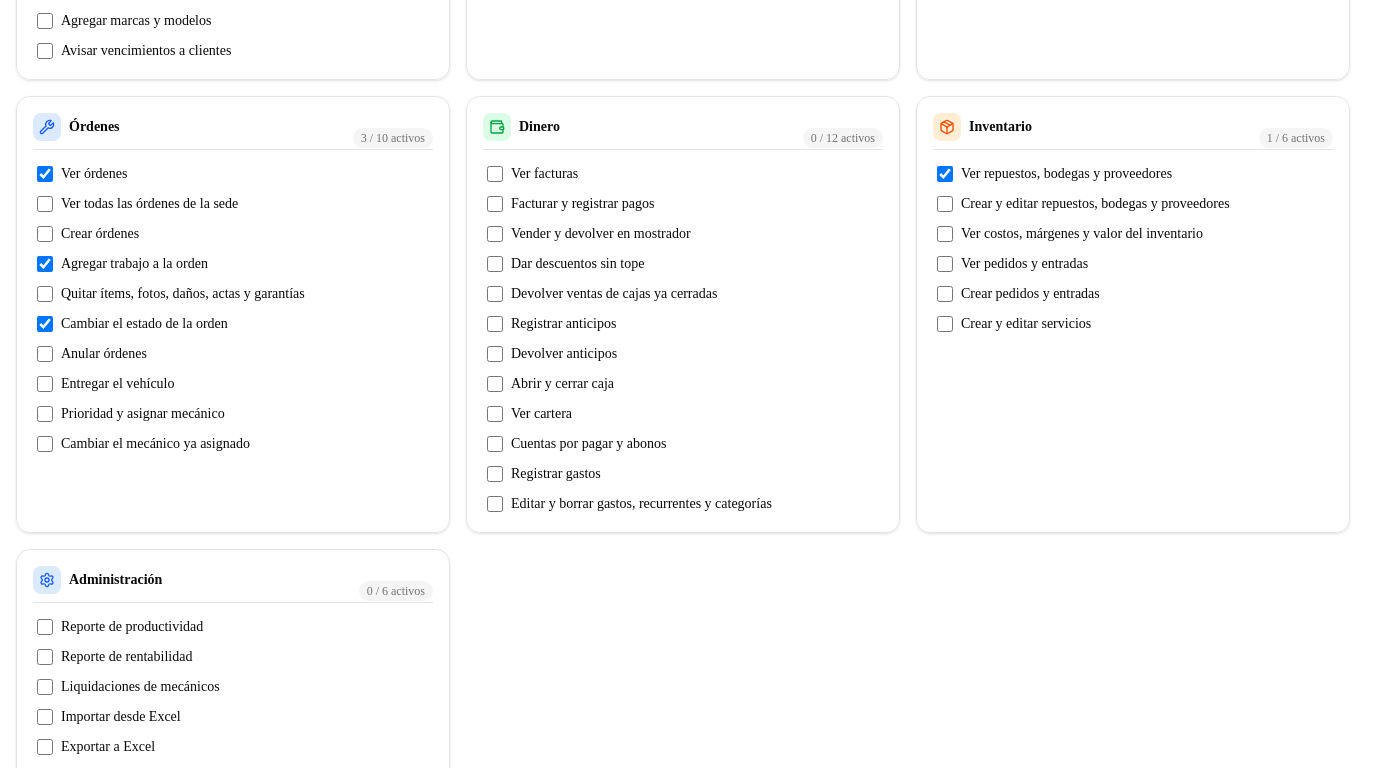
Test: FichaUsuario › Descartar vuelve a lo guardado
(page scrolled)
Click the checkbox labelled "Abrir y cerrar caja" at coordinates (495, 384), box [487, 376, 503, 392]
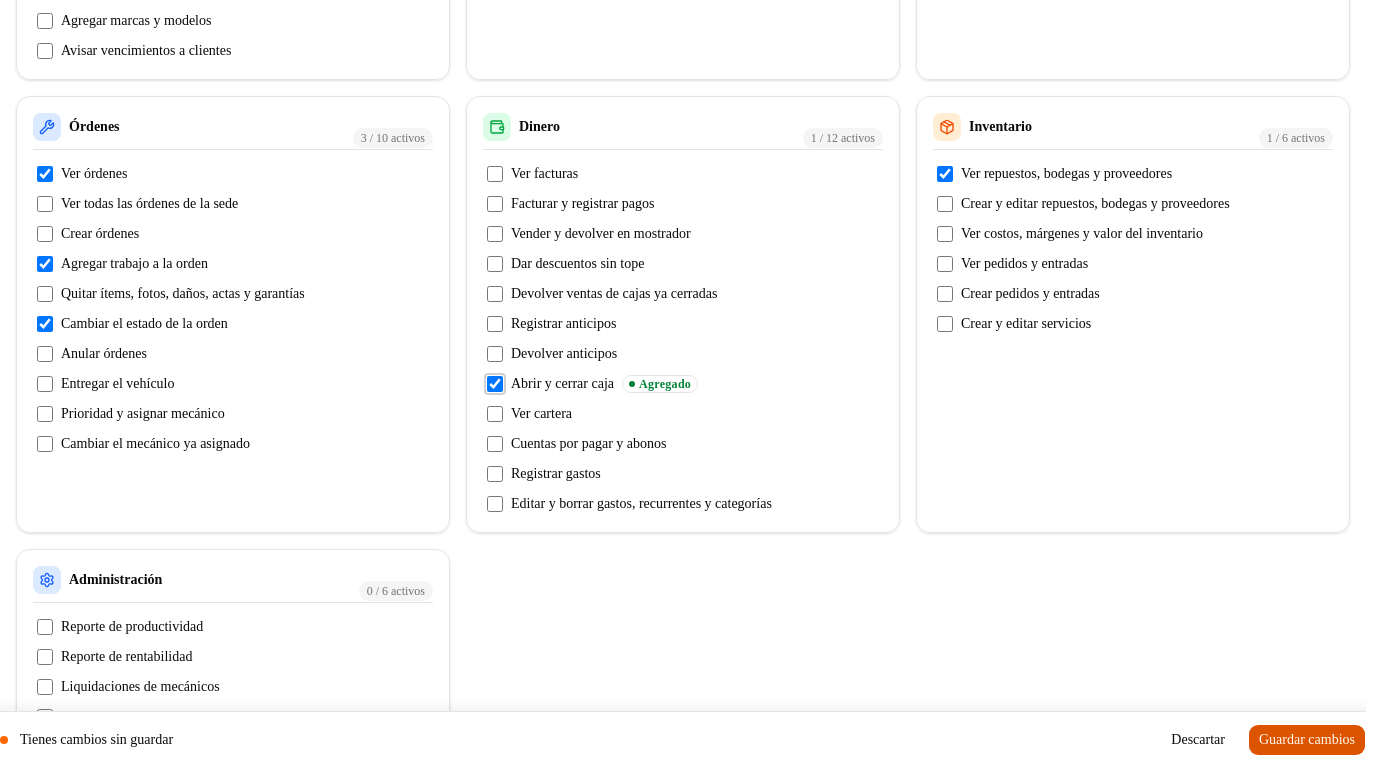
Click the button "Descartar" at coordinates (1198, 740), box [1160, 724, 1236, 756]
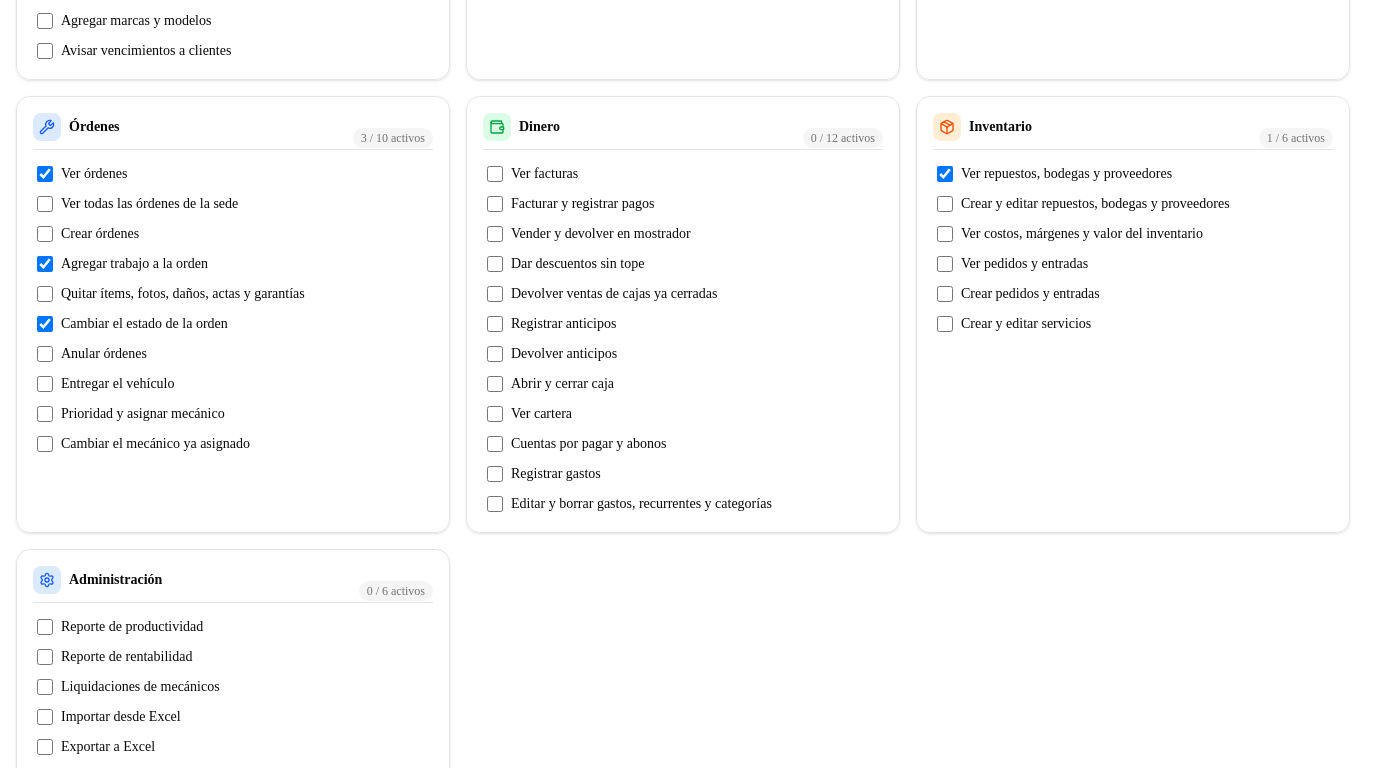
Expected: the checkbox labelled "Abrir y cerrar caja" is not checked, [487, 376, 503, 392]
Expected: the text "Tienes cambios sin guardar" is gone
